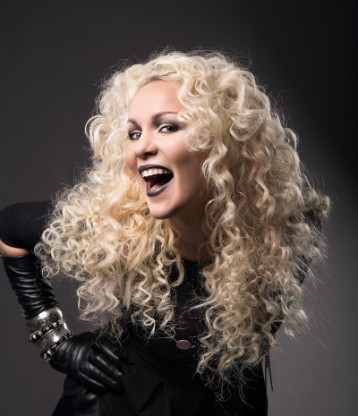张嘴: (135, 159, 177, 203)
